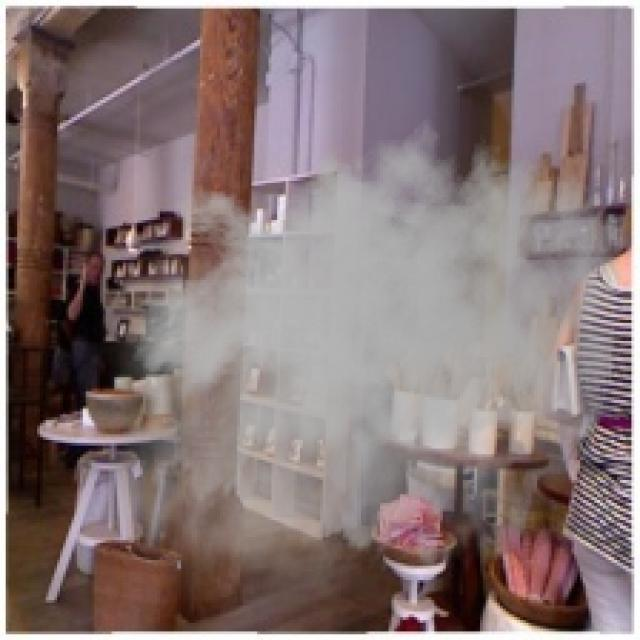Smoke: (83, 102, 626, 634)
